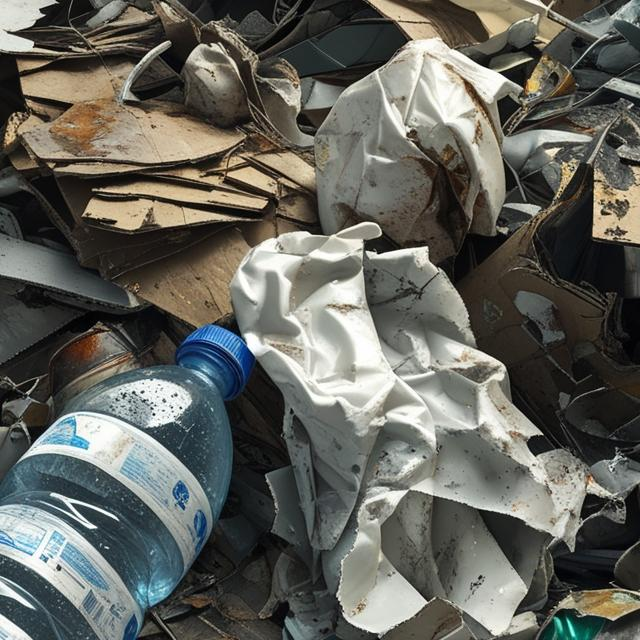plastic: (0, 310, 270, 640)
